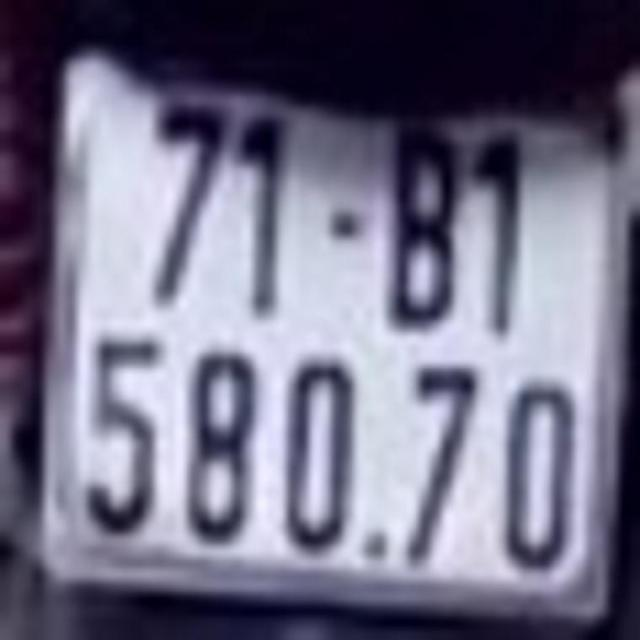0: (277, 354, 359, 560), (498, 363, 574, 575)
1: (476, 120, 526, 333), (238, 119, 286, 312)
5: (88, 332, 162, 534)
7: (142, 108, 229, 303), (408, 362, 482, 572)
8: (185, 343, 258, 539)
B: (385, 124, 459, 332)
